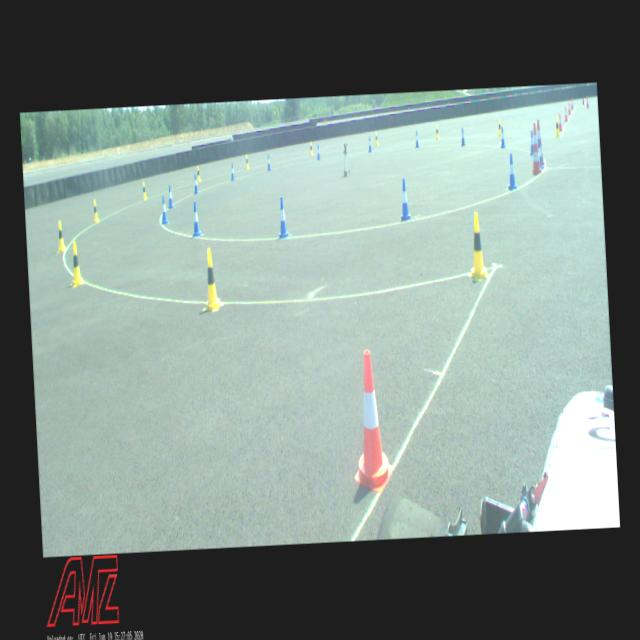blue_cone: (276, 196, 290, 238), (398, 178, 411, 220), (190, 201, 202, 237), (506, 153, 517, 189), (160, 196, 170, 224), (537, 138, 544, 169), (168, 184, 175, 209), (499, 126, 506, 148), (529, 130, 534, 154), (460, 128, 466, 146), (230, 163, 235, 181), (414, 130, 419, 148), (316, 144, 321, 161), (266, 154, 271, 170), (194, 174, 198, 193), (368, 136, 372, 152)
large_orange_cone: (530, 124, 542, 174), (536, 119, 544, 164)
orange_cone: (348, 350, 396, 494), (558, 113, 563, 131), (564, 106, 568, 122), (568, 102, 572, 115), (570, 98, 574, 110), (586, 96, 589, 108)
yellow_cone: (200, 248, 222, 311), (468, 212, 488, 280), (69, 240, 83, 287), (56, 220, 67, 252), (92, 198, 100, 224), (554, 116, 560, 136), (142, 181, 148, 201), (434, 124, 440, 140), (244, 154, 250, 170), (497, 119, 502, 136), (197, 165, 201, 182), (310, 141, 314, 156), (374, 132, 378, 146)
